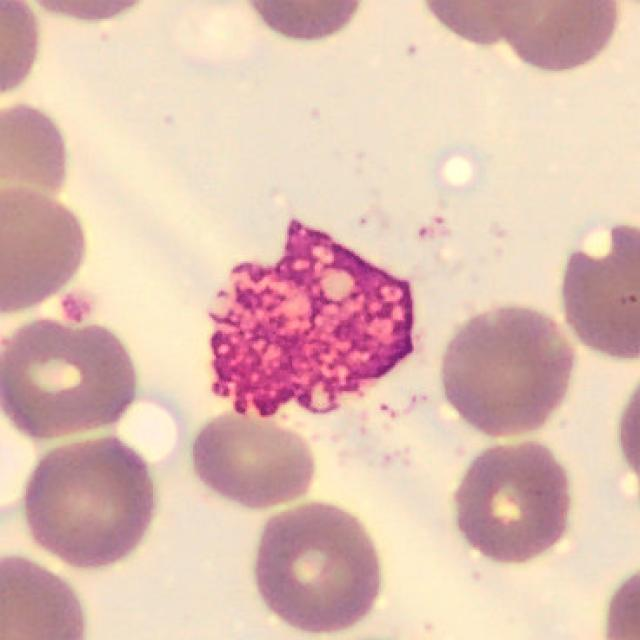Artefato: (198, 187, 485, 640)
